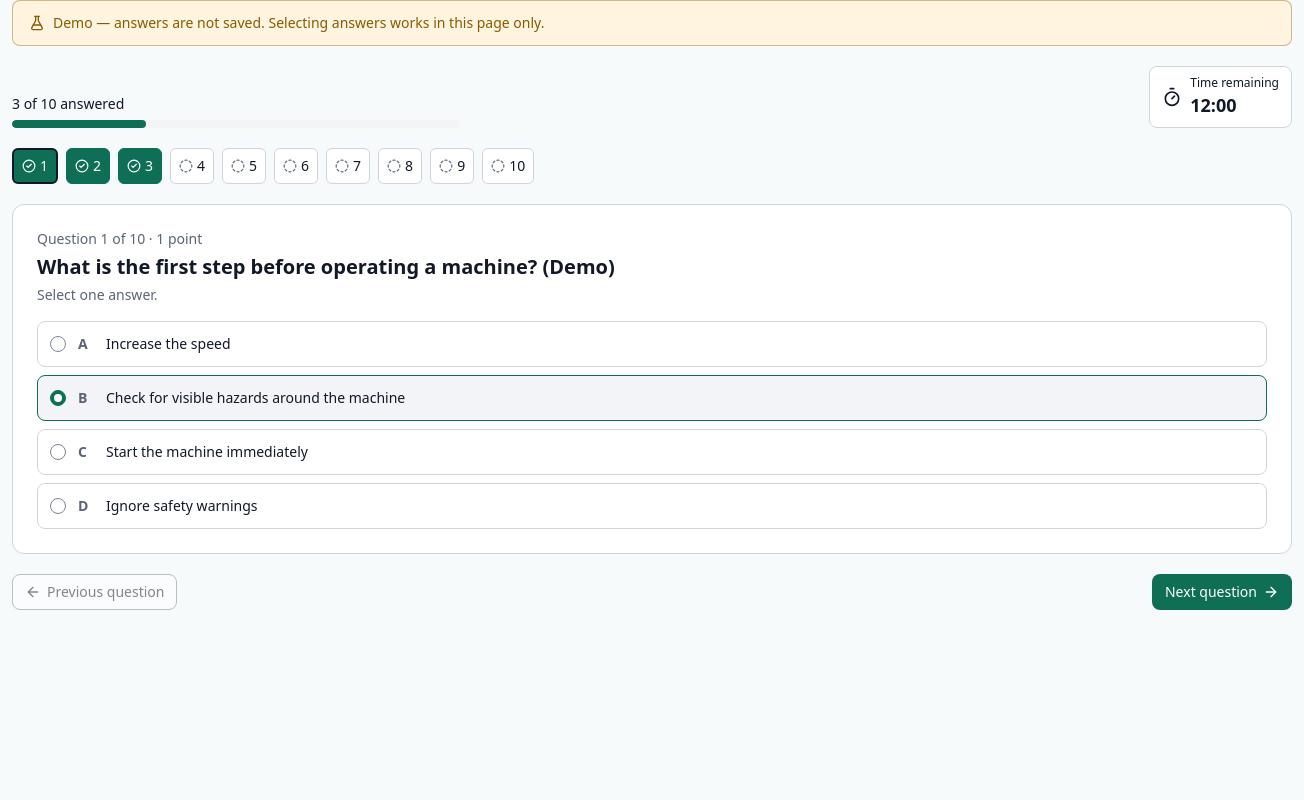
Test case: AttemptTaker › previous / next move one question at a time and focus the new question
expect the button "Previous question" is disabled: met, box 12,574 -> 177,610
Step 1. Click the button "Next question" → (1222, 592), box 1152,574 -> 1292,610
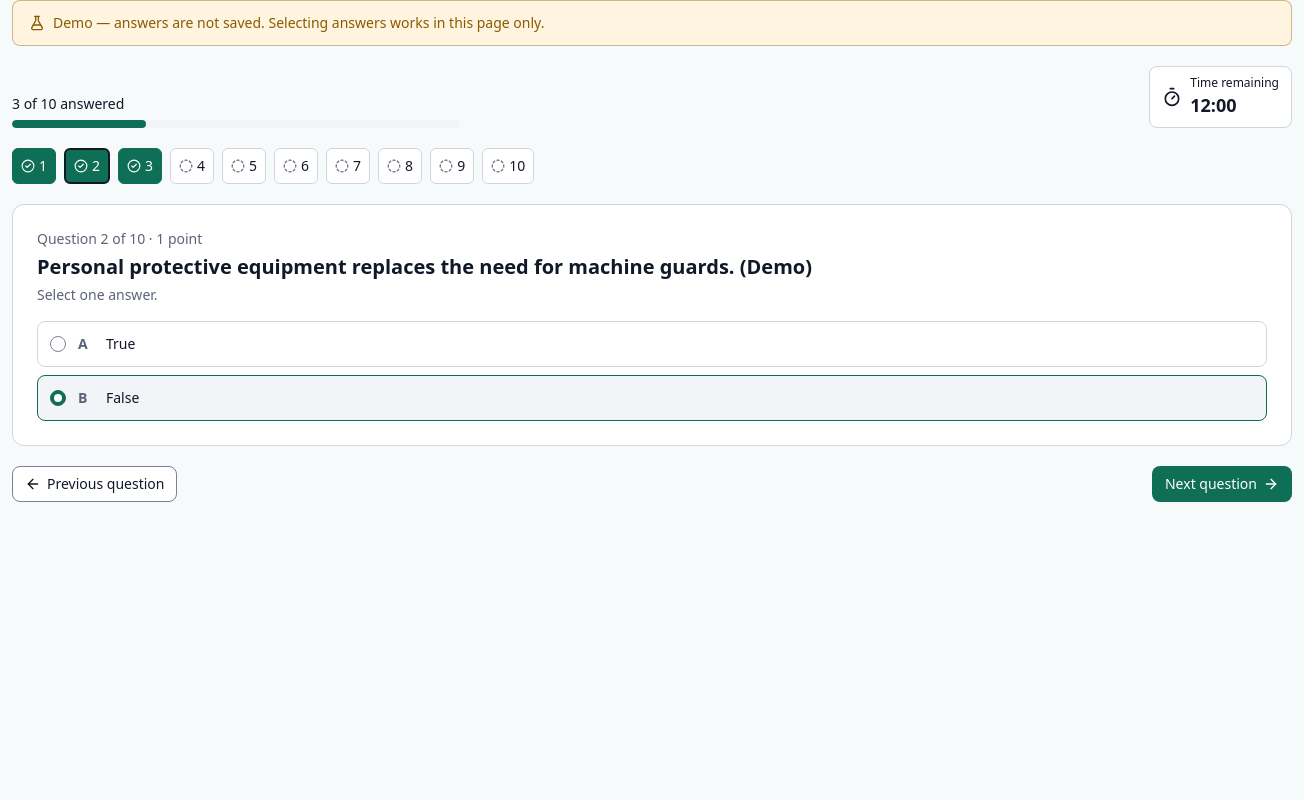
expect the text "Question 2 of 10 · 1 point" is shown: met, box 37,229 -> 202,248
